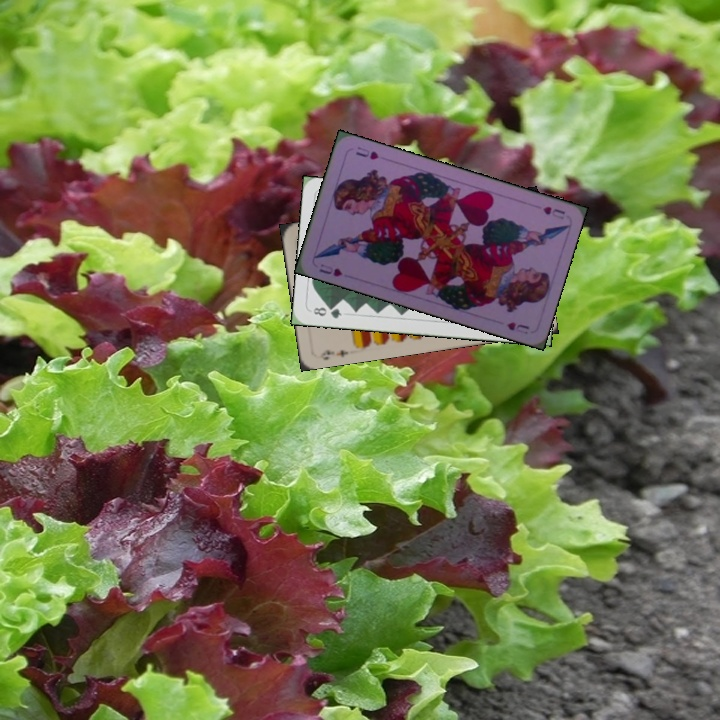E9: (316, 345, 351, 363)
G8: (309, 303, 344, 321)
HU: (315, 260, 345, 279), (539, 202, 567, 222)
